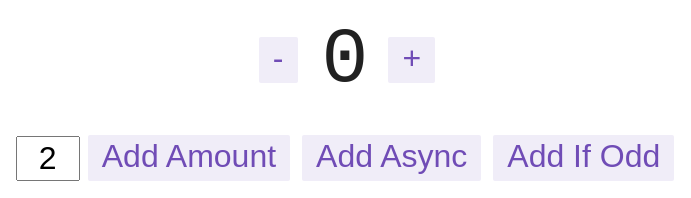
it: <Counter /> › decrements the value
Click the button named "decrement value" at (278, 60), box 259,36 -> 298,82
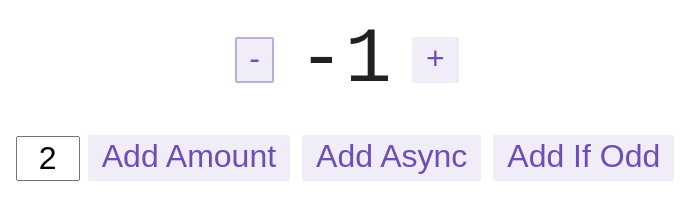
Now the text "-1" is shown, box 298,16 -> 392,104
